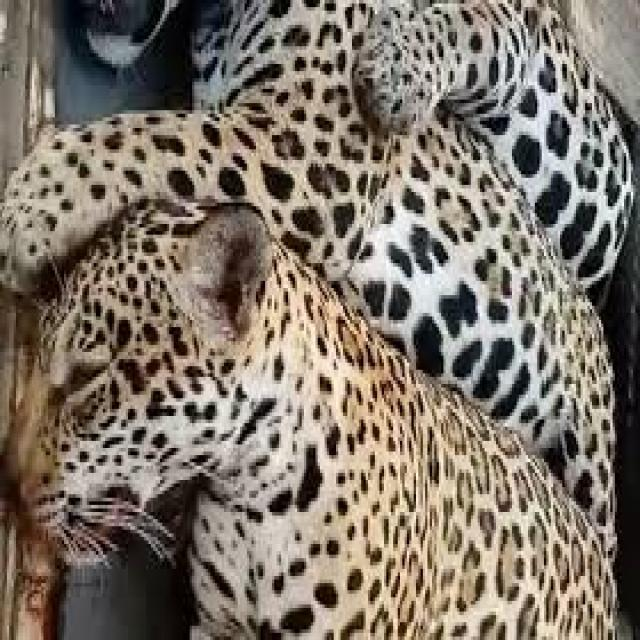Jaguar: (23, 192, 610, 636), (27, 4, 622, 398)
